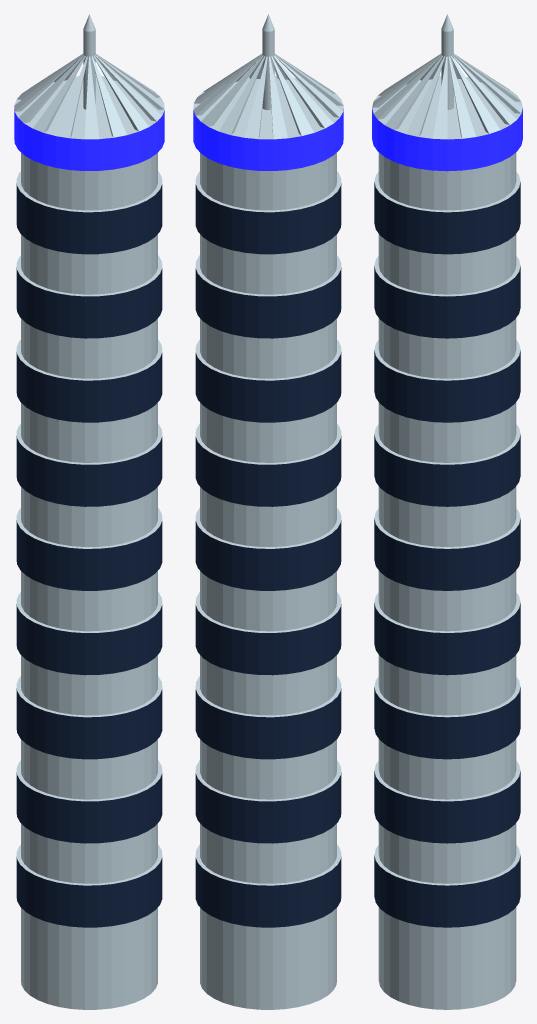
The model's file is Office_Building.fbx.
3 views of the same model, side by side, from view 1: azimuth 30°, elevation 25°; view 2: azimuth 150°, elevation 25°; view 3: azimuth 270°, elevation 25° (orthographic).
Parts seen in each view (by area): view 1: Cylinder; view 2: Cylinder; view 3: Cylinder.
Part boxes in pixels (x1=…): Cylinder: x1=14, y1=14, x2=164, y2=1009; Cylinder: x1=193, y1=14, x2=343, y2=1009; Cylinder: x1=372, y1=14, x2=522, y2=1009.
Bounding box in the file's own units: 355 × 2509 × 355.
